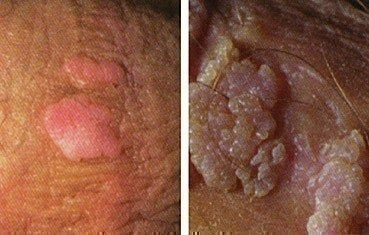Warts: (191, 31, 369, 235), (29, 32, 146, 178)
